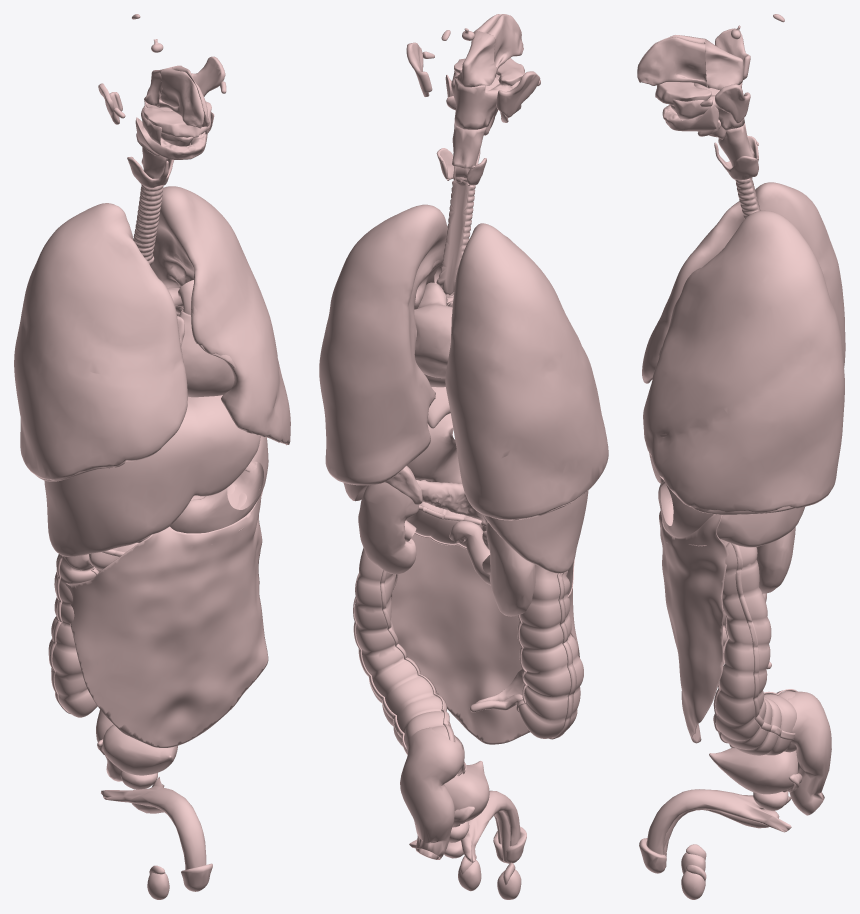
Rendered from organs.glb.
3 views of the same model, side by side, from view 1: azimuth 30°, elevation 25°; view 2: azimuth 150°, elevation 25°; view 3: azimuth 270°, elevation 25° (orthographic). The views are drawn at different scales.
Visible parts, largest first — view 1: Pleura, Greater omentum, Liver, Ascending colon, Stomach, Corpus cavernosum of penis, Right ventricle, Gingiva, Urinary bladder, Mucosa of nasal cavity, Trachea, Parotid gland__L (+3 smaller); view 2: Pleura, Greater omentum, Ascending colon, Descending colon, Sigmoid colon, Liver, Kidney__L, Left atrium, Kidney__R, Trachea, Stomach, Oropharynx (+16 smaller); view 3: Pleura, Greater omentum, Descending colon, Sigmoid colon, Corpus cavernosum of penis, Mucosa of nasal cavity, Urinary bladder, Spleen, Gingiva, Kidney__L, Stomach, Mesocolic taenia (+11 smaller).
Part boxes in pixels (bbox=[...]): Pleura: bbox=[14, 186, 290, 480]; Greater omentum: bbox=[65, 484, 268, 747]; Liver: bbox=[44, 395, 260, 556]; Ascending colon: bbox=[48, 554, 97, 717]; Stomach: bbox=[170, 436, 268, 533]; Corpus cavernosum of penis: bbox=[101, 777, 206, 869]; Right ventricle: bbox=[179, 310, 234, 397]; Gingiva: bbox=[135, 101, 211, 159]; Urinary bladder: bbox=[102, 724, 177, 775]; Mucosa of nasal cavity: bbox=[159, 65, 209, 128]; Trachea: bbox=[133, 184, 163, 265]; Parotid gland__L: bbox=[191, 56, 225, 96]; Pleura: bbox=[319, 204, 608, 520]; Greater omentum: bbox=[391, 532, 579, 744]; Ascending colon: bbox=[518, 564, 583, 738]; Descending colon: bbox=[354, 548, 464, 775]; Sigmoid colon: bbox=[400, 727, 464, 859]; Liver: bbox=[427, 387, 588, 573]; Kidney__L: bbox=[358, 482, 418, 574]; Left atrium: bbox=[414, 282, 452, 378]; Kidney__R: bbox=[486, 523, 535, 616]; Trachea: bbox=[436, 177, 475, 295]; Stomach: bbox=[407, 413, 462, 483]; Oropharynx: bbox=[451, 71, 520, 129]; Pleura: bbox=[642, 182, 845, 512]; Greater omentum: bbox=[659, 498, 728, 743]; Descending colon: bbox=[715, 542, 796, 755]; Sigmoid colon: bbox=[788, 691, 831, 815]; Corpus cavernosum of penis: bbox=[646, 789, 791, 854]; Mucosa of nasal cavity: bbox=[637, 35, 706, 86]; Urinary bladder: bbox=[709, 748, 797, 794]; Spleen: bbox=[717, 507, 804, 547]; Gingiva: bbox=[655, 82, 718, 131]; Kidney__L: bbox=[756, 527, 795, 593]; Stomach: bbox=[658, 480, 713, 537]; Mesocolic taenia: bbox=[731, 543, 795, 739].
Bounding box in the file's own units: 0.2634 × 0.8931 × 0.1926.
